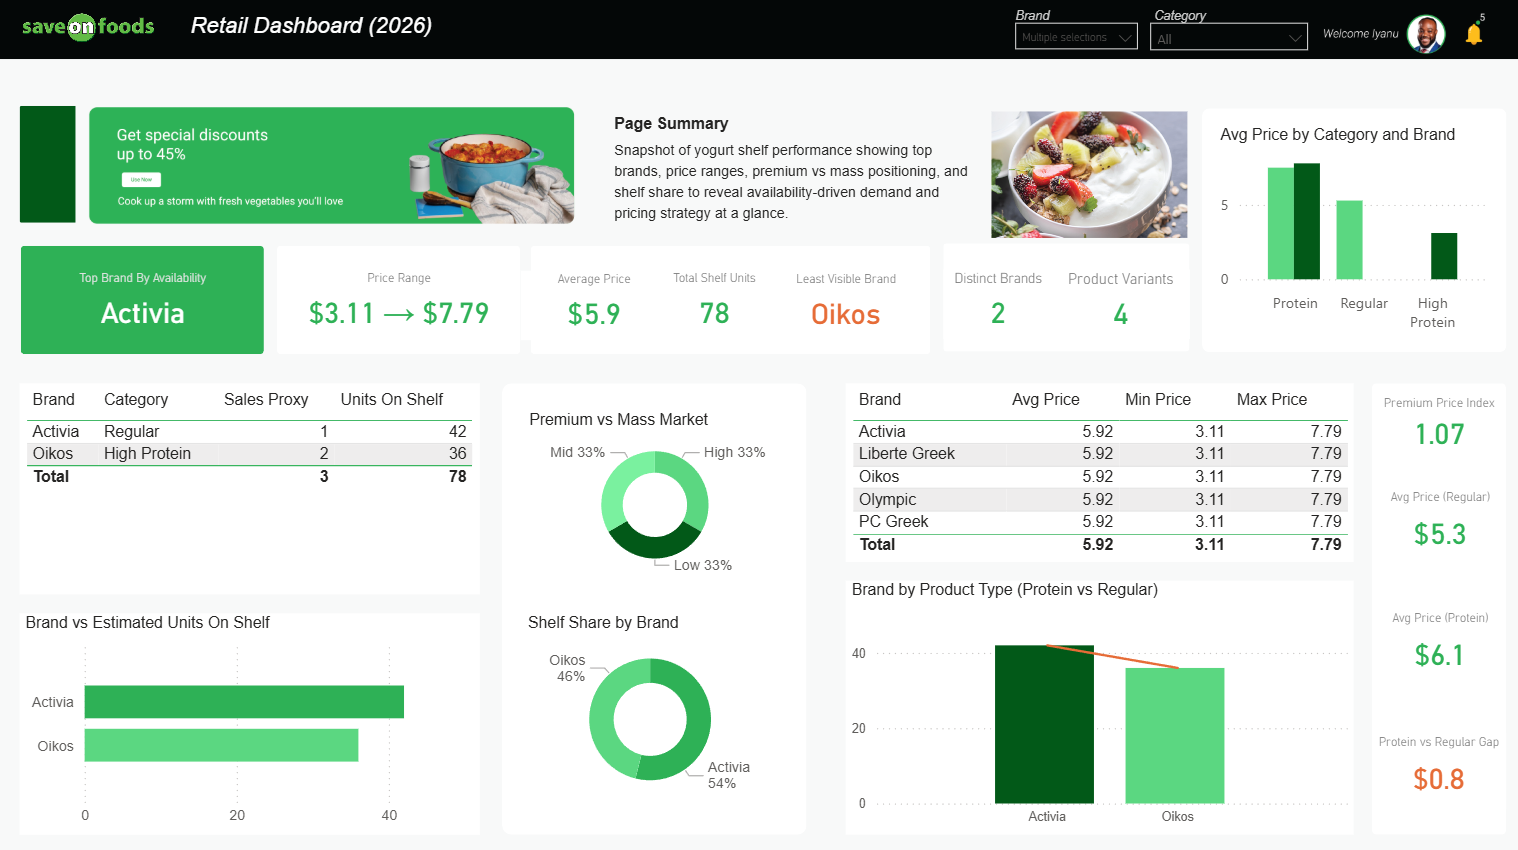

The dashboard page shown, as its layout file describes it:
{"tool":"powerbi","page":{"name":"Dashboard Main","canvas":[1280,720],"ordinal":0},"visuals":[{"type":"image","box":[0,0,1280.2,720.2],"z":0},{"type":"slicer","fields":{"Values":["Dim_Brand.Brand"]},"box":[851.8,16.9,113.3,35.2],"z":1000},{"type":"slicer","fields":{"Values":["yogurt_shelf_conspicuous_brands.Category"]},"box":[965.2,16.8,143,34.7],"z":2000},{"type":"textbox","box":[968.3,0,68.3,32.6],"z":3000},{"type":"textbox","box":[851.8,0,71.6,32.6],"z":4000},{"type":"textbox","box":[157.6,13,247.5,24.7],"z":5000},{"type":"image","box":[0,0,148.5,52.1],"z":6000},{"type":"textbox","box":[513.8,113.9,318,84.2],"z":7000},{"type":"shape","box":[19.5,209.7,204.5,91.2],"z":8000},{"type":"card","title":"Top Brand By  Availability","fields":{"Values":["Measures_Table.Top Brand (Availability)"]},"box":[31.3,229.2,182.3,58.6],"z":9000},{"type":"shape","box":[235.7,209.7,204.5,91.2],"z":10000},{"type":"card","title":"Price Range","fields":{"Values":["Measures_Table.Price Range (Min → Max)"]},"box":[252.7,229.2,171.9,58.6],"z":11000},{"type":"shape","box":[449.3,209.7,336,91.2],"z":12000},{"type":"card","title":"Average Price","fields":{"Values":["Measures_Table.Avg Price"]},"box":[440.2,230.5,123.7,58.6],"z":13000},{"type":"card","title":"Least Visible Brand","fields":{"Values":["Measures_Table.Least Visible Brand"]},"box":[617.3,230.5,194.1,58.6],"z":14000},{"type":"shape","box":[795.8,207.1,207.1,91.2],"z":15000},{"type":"card","title":"Product Variants","fields":{"Values":["Measures_Table.Product Variants"]},"box":[886.9,229.2,115.9,58.6],"z":16000},{"type":"card","title":"Total Shelf Units","fields":{"Values":["Measures_Table.Total Shelf Units"]},"box":[548.3,229.2,109.4,58.6],"z":17000},{"type":"card","title":"Distinct Brands","fields":{"Values":["Measures_Table.Distinct Brands"]},"box":[795.8,229.2,92.5,58.6],"z":18000},{"type":"shape","box":[19,91.4,47.5,98.5],"z":19000},{"type":"clusteredBarChart","title":"Brand vs Estimated Units On Shelf","fields":{"Category":["yogurt_shelf_conspicuous_brands.Brand"],"Y":["Sum(yogurt_shelf_conspicuous_brands.Estimated_Units_On_Shelf)"]},"box":[19,518.5,386.8,186.3],"z":20000},{"type":"tableEx","fields":{"Values":["yogurt_shelf_conspicuous_brands.Brand","yogurt_shelf_conspicuous_brands.Category","Sum(yogurt_shelf_conspicuous_brands.Sales_Proxy_Rank)","Sum(yogurt_shelf_conspicuous_brands.Estimated_Units_On_Shelf)"]},"box":[19,325.1,386.8,178],"z":21000},{"type":"shape","box":[424.8,325.1,256.3,379.7],"z":22000},{"type":"lineStackedColumnComboChart","title":"Brand by Product Type (Protein vs Regular)","fields":{"Category":["yogurt_shelf_conspicuous_brands.Brand"],"Series":["yogurt_shelf_conspicuous_brands.Category"],"Y2":["Sum(yogurt_shelf_conspicuous_brands.Estimated_Units_On_Shelf)"],"Y":["Sum(yogurt_shelf_conspicuous_brands.Estimated_Units_On_Shelf)"]},"box":[714.3,491.2,427.1,213.6],"z":23000},{"type":"donutChart","title":"Premium vs Mass Market","fields":{"Category":["yogurt_shelf_expanded.Price Tier"],"Y":["Measures_Table.Total Shelf Units"]},"box":[442.6,347.6,221.9,143.6],"z":24000},{"type":"donutChart","title":"Shelf Share by Brand","fields":{"Category":["yogurt_shelf_conspicuous_brands.Brand"],"Y":["Measures_Table.Total Shelf Units"]},"box":[441.4,518.5,215.9,163.7],"z":25000},{"type":"tableEx","fields":{"Values":["yogurt_shelf_conspicuous_brands.Brand","Measures_Table.Avg Price","Measures_Table.Min Price","Measures_Table.Max Price"]},"box":[714.3,325.1,427.1,150.7],"z":26000},{"type":"shape","box":[1156.8,325.1,112.7,379.7],"z":27000},{"type":"shape","box":[1013.3,93.7,256.3,205.3],"z":28000},{"type":"clusteredColumnChart","fields":{"Category":["yogurt_shelf_expanded.Category"],"Y":["Measures_Table.Avg Price"],"Series":["Dim_Brand.Brand"]},"box":[1024,108,234.9,180.3],"z":29000},{"type":"card","title":"Premium Price Index","fields":{"Values":["Measures_Table.Premium Price Index"]},"box":[1154.5,334.6,117.5,52.2],"z":30000},{"type":"card","title":"Avg Price (Protein)","fields":{"Values":["Measures_Table.Avg Price (Protein)"]},"box":[1156.8,514.9,115.1,62.9],"z":31000},{"type":"card","title":"Avg Price (Regular)","fields":{"Values":["Measures_Table.Avg Price (Regular)"]},"box":[1156.8,412.9,115.1,62.9],"z":32000},{"type":"card","title":"Protein vs Regular Gap","fields":{"Values":["Measures_Table.Protein vs Regular Gap"]},"box":[1156.8,619.4,112.7,62.9],"z":33000},{"type":"textbox","box":[513.8,91.4,318,28.5],"z":34000},{"type":"image","box":[831.7,91.4,170.9,116.3],"z":35000}]}

Visuals, with their boxes in screenshot pixels (x1, y1, x2, y2), scaled from the page's 1280x720 canvas onto the 1518x850 screenshot:
image: 0:0:1517:849
slicer - Dim_Brand.Brand: 1010:20:1145:62
slicer - yogurt_shelf_conspicuous_brands.Category: 1145:20:1314:61
textbox: 1148:0:1229:38
textbox: 1010:0:1095:38
textbox: 187:15:480:45
image: 0:0:176:62
textbox: 609:134:986:234
shape: 23:248:266:355
"Top Brand By  Availability" card: 37:271:253:340
shape: 280:248:522:355
"Price Range" card: 300:271:504:340
shape: 533:248:931:355
"Average Price" card: 522:272:669:341
"Least Visible Brand" card: 732:272:962:341
shape: 944:244:1189:352
"Product Variants" card: 1052:271:1189:340
"Total Shelf Units" card: 650:271:780:340
"Distinct Brands" card: 944:271:1053:340
shape: 23:108:79:224
"Brand vs Estimated Units On Shelf" clusteredBarChart: 23:612:481:832
tableEx - yogurt_shelf_conspicuous_brands.Brand x yogurt_shelf_conspicuous_brands.Category: 23:384:481:594
shape: 504:384:808:832
"Brand by Product Type (Protein vs Regular)" lineStackedColumnComboChart: 847:580:1354:832
"Premium vs Mass Market" donutChart: 525:410:788:580
"Shelf Share by Brand" donutChart: 523:612:780:805
tableEx - yogurt_shelf_conspicuous_brands.Brand x Measures_Table.Avg Price: 847:384:1354:562
shape: 1372:384:1506:832
shape: 1202:111:1506:353
clusteredColumnChart - yogurt_shelf_expanded.Category x Measures_Table.Avg Price: 1214:128:1493:340
"Premium Price Index" card: 1369:395:1509:457
"Avg Price (Protein)" card: 1372:608:1508:682
"Avg Price (Regular)" card: 1372:487:1508:562
"Protein vs Regular Gap" card: 1372:731:1506:805
textbox: 609:108:986:142
image: 986:108:1189:245
